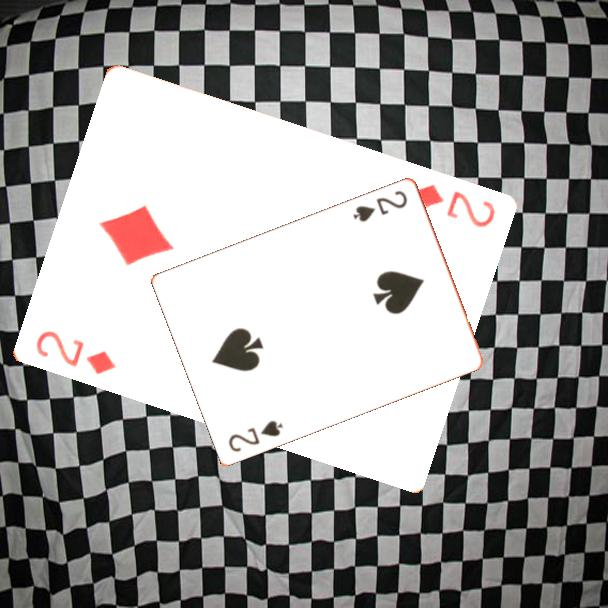d02: (31, 327, 118, 378), (410, 181, 498, 231)
s02: (349, 186, 410, 224), (225, 416, 286, 454)
